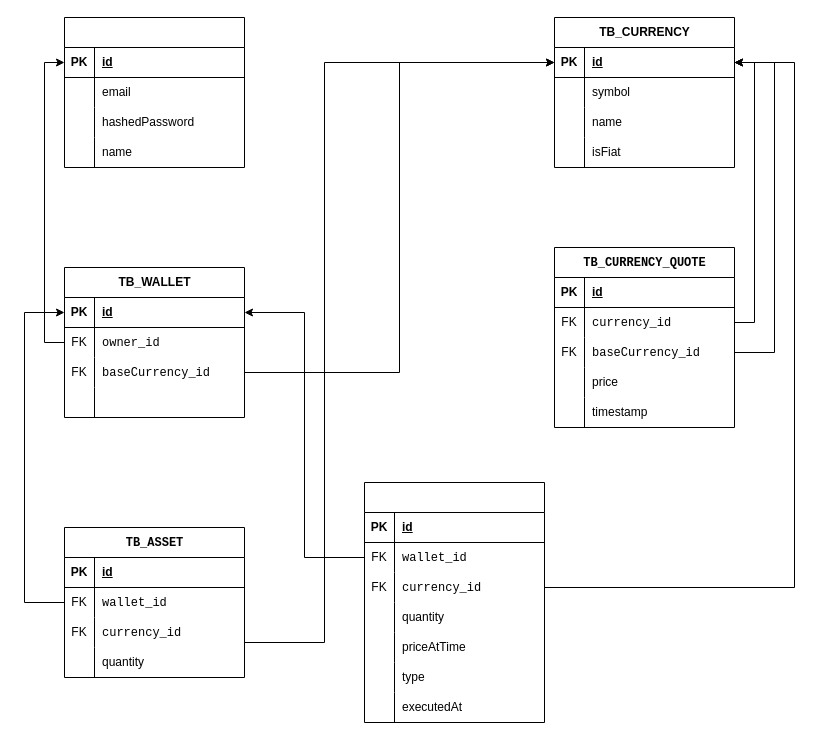
This 820x740 diagram has some shape labels left out. Here are the shapes that lost their labels. From the top down, the box of each, then its label:
(64, 16, 244, 168): TB_USER
(364, 482, 544, 722): TB_TRANSACTION
